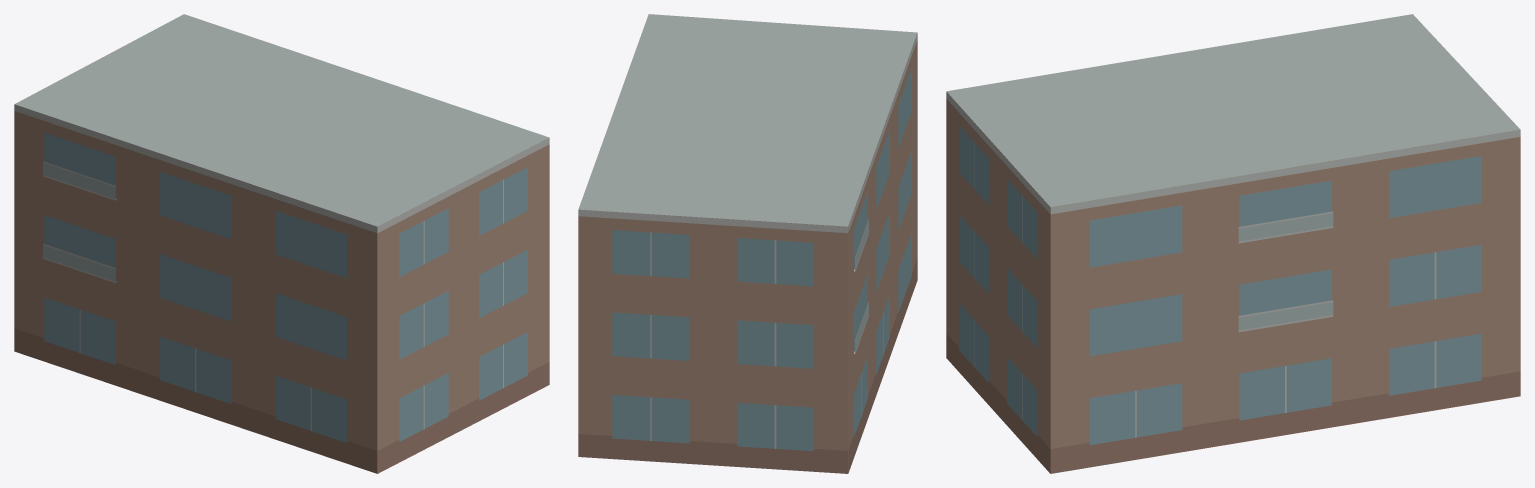
Rendered from survey-upis-33031759.glb.
The picture shows the model from 3 angles, left to right: view 1: azimuth 30°, elevation 25°; view 2: azimuth 150°, elevation 25°; view 3: azimuth 270°, elevation 25°; orthographic projection. The views are drawn at different scales.
Visible parts, largest first — view 1: survey-upis-33031759.tmp; view 2: survey-upis-33031759.tmp; view 3: survey-upis-33031759.tmp.
Boxes of the visible parts, x1,y1,x2,y2 form: survey-upis-33031759.tmp: [14, 14, 549, 473]; survey-upis-33031759.tmp: [578, 14, 917, 473]; survey-upis-33031759.tmp: [946, 14, 1520, 473].
Bounding box in the file's own units: 14.24 × 9.15 × 17.88.
